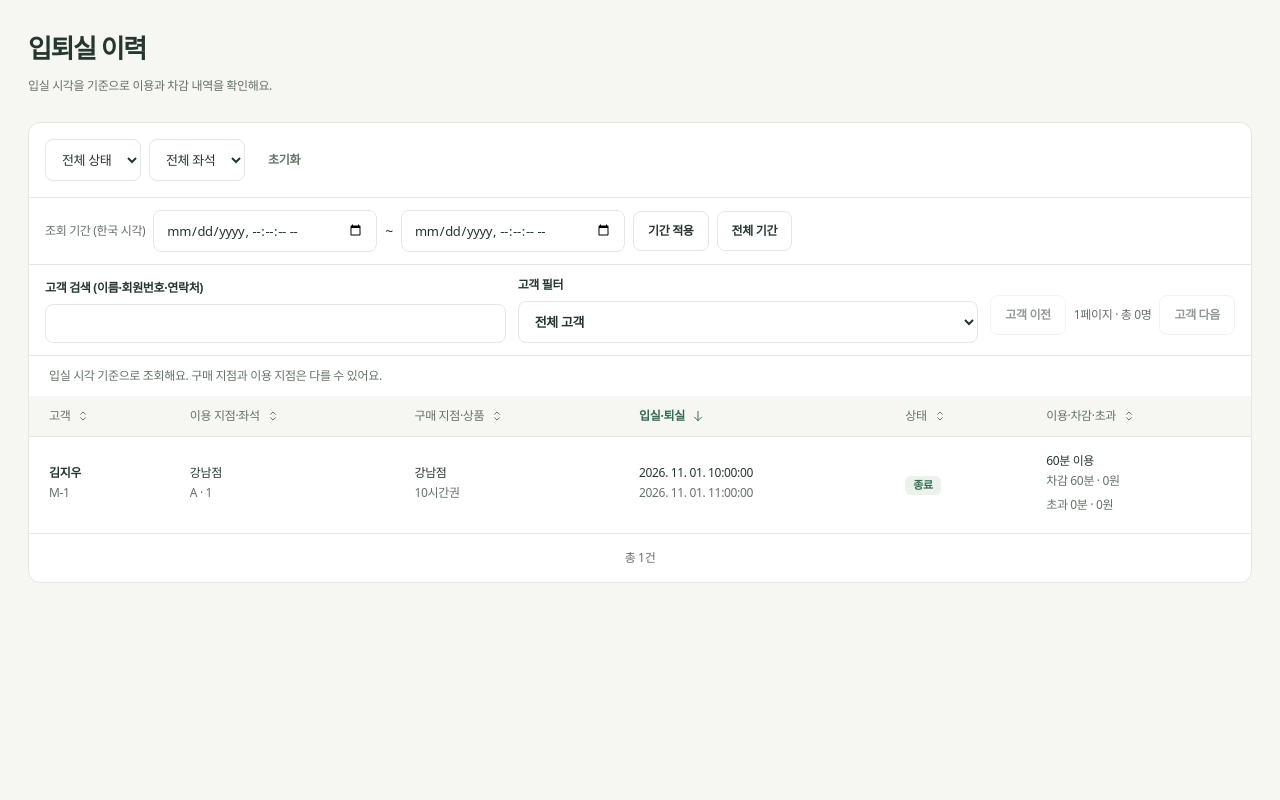
Test case: opens the session detail from the customer name cell link
The image size is (1280, 800).
Click the button "김지우".
click(65, 473)  # box [49,465,81,481]
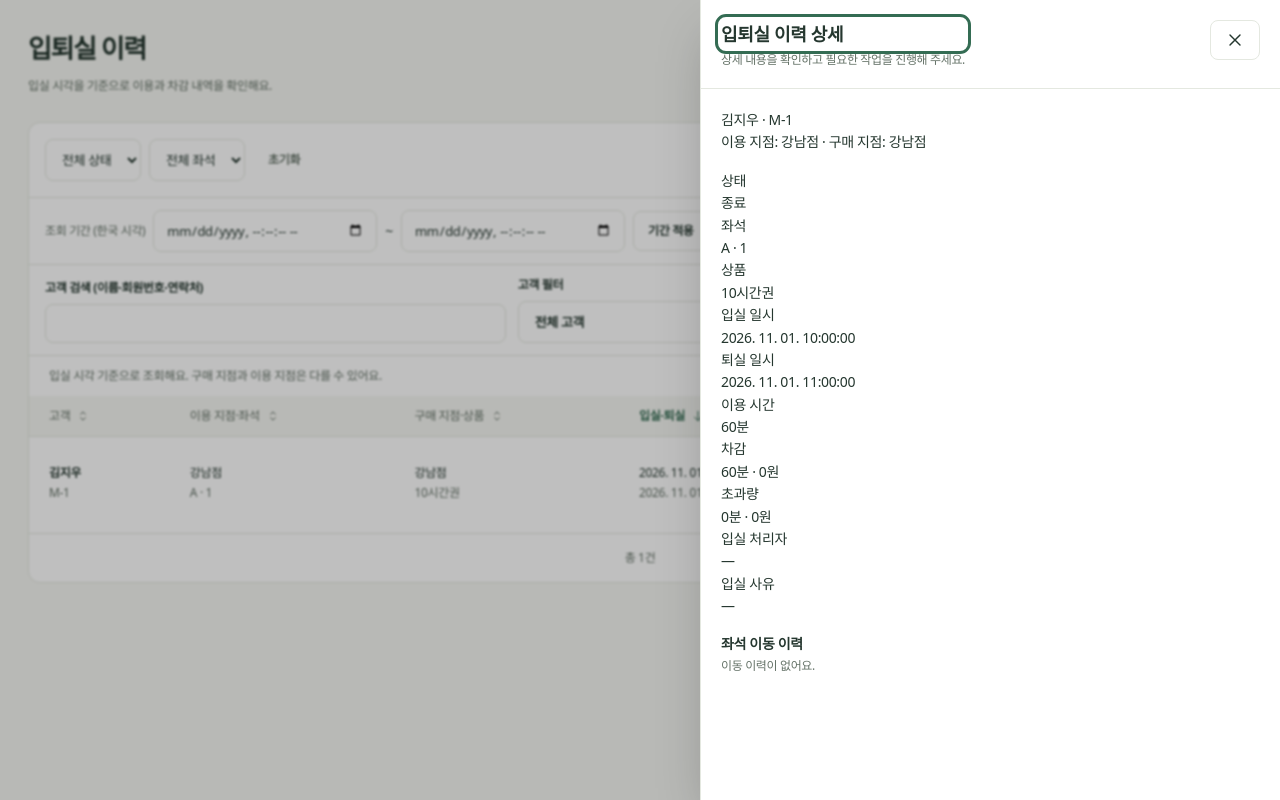
Expected: the text "총 1건" is shown, [625,546,655,570]
Now the text "이동 이력이 없어요." is shown, box [721,657,815,674]
